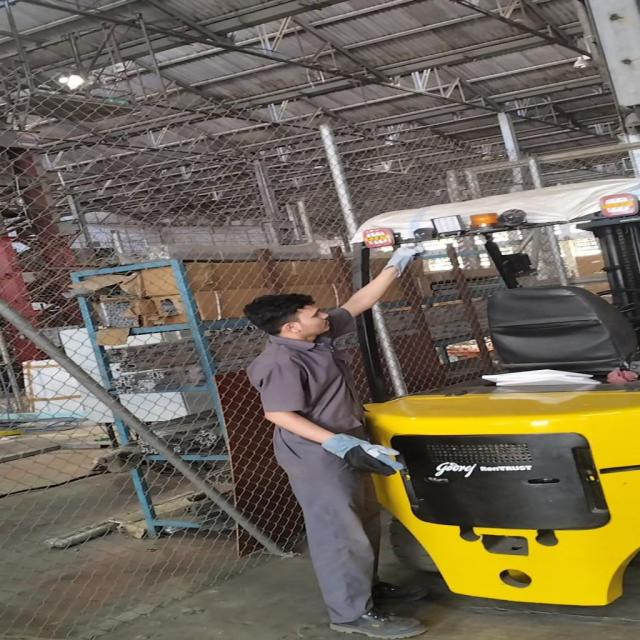Gloves-Detection: (319, 427, 400, 482), (380, 240, 423, 278)
